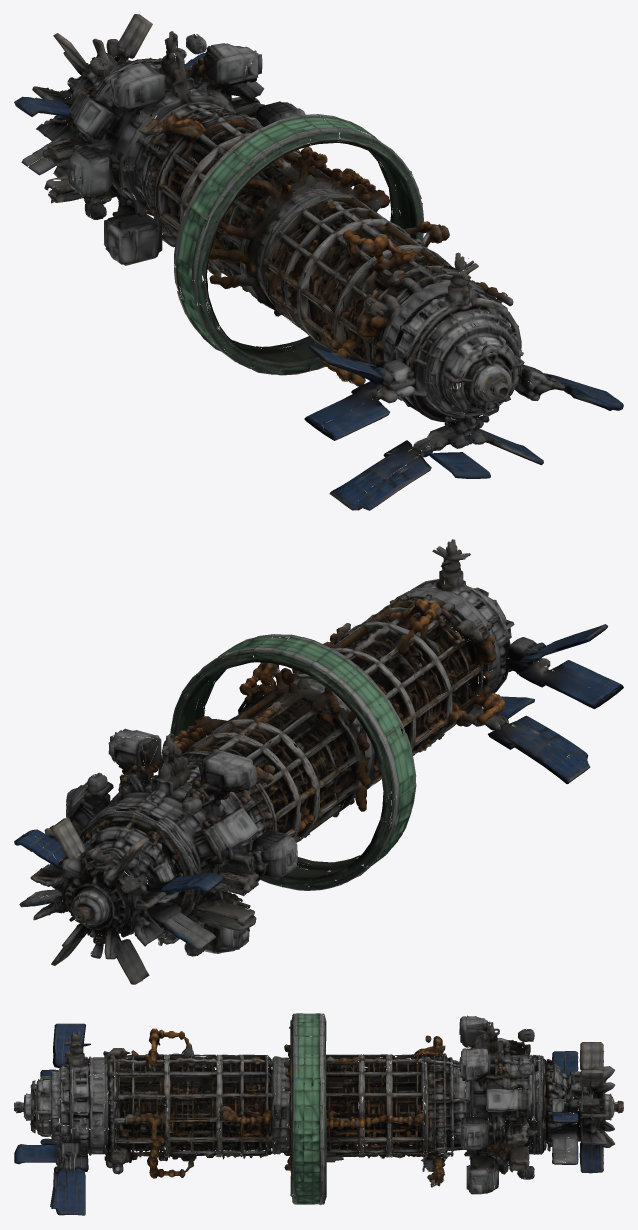
The model's file is station_detailed_opt.glb.
The picture shows the model from 3 angles, top to bottom: view 1: azimuth 30°, elevation 25°; view 2: azimuth 150°, elevation 25°; view 3: azimuth 270°, elevation 25°; orthographic projection. The views are drawn at different scales.
Parts seen in each view (by area): view 1: world; view 2: world; view 3: world.
Boxes of the visible parts, x1,y1,x2,y2 form: world: [14, 14, 623, 510]; world: [14, 539, 623, 984]; world: [14, 1013, 623, 1215].
Bounding box in the file's own units: 0.4194 × 0.3142 × 1.
1 material, 1 textured.
